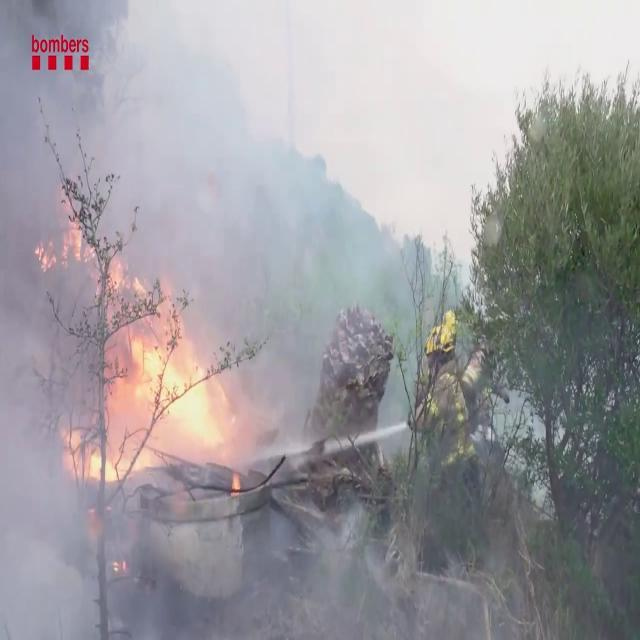Fire: (114, 321, 244, 466)
Smoke: (21, 0, 386, 348)
